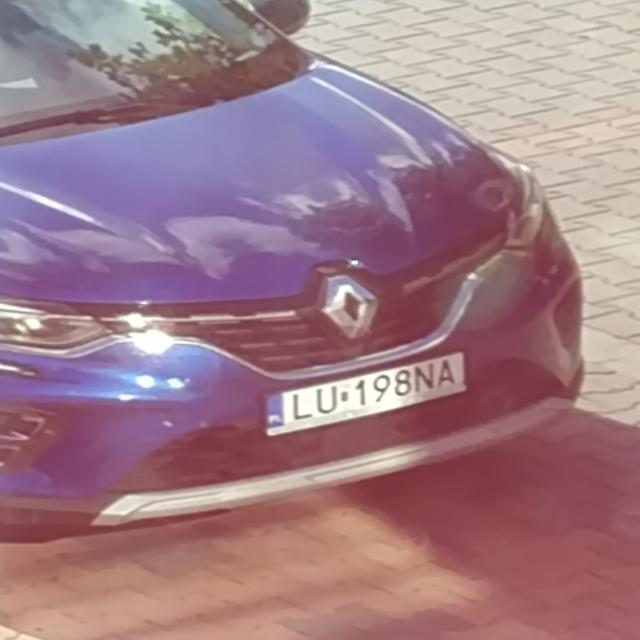pl_license_plate: (268, 352, 473, 427)
